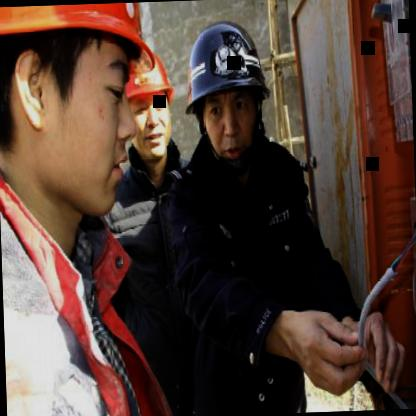helmet: (0, 1, 177, 224), (178, 13, 276, 176), (119, 50, 178, 158)
